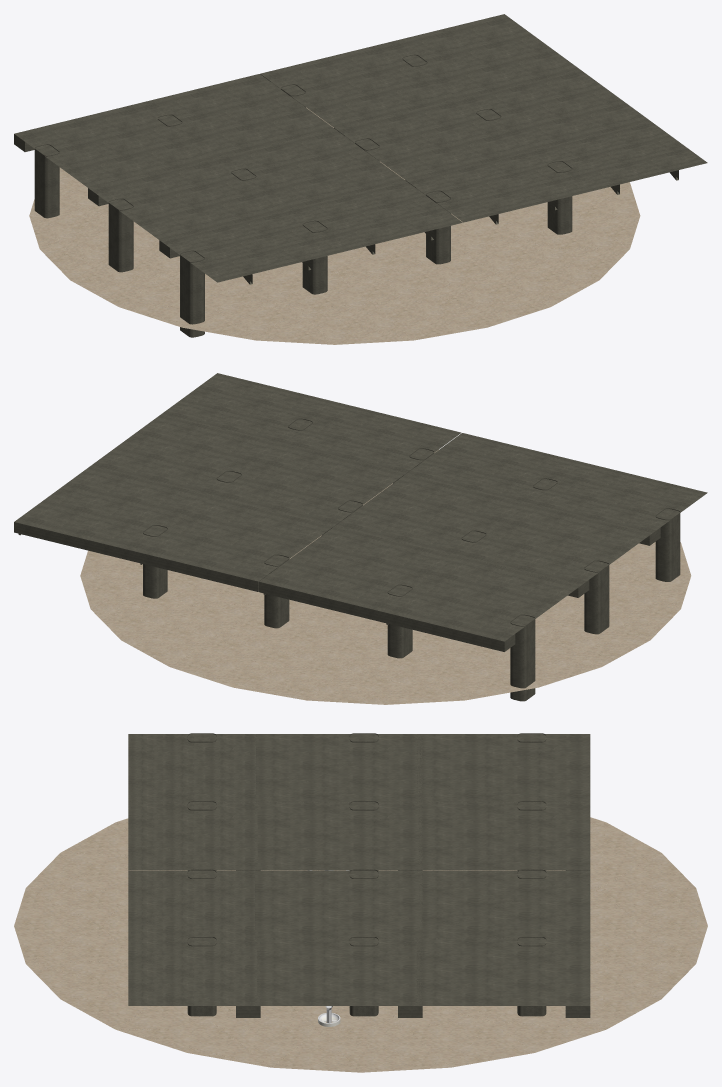
File: rami_placeholder.glb
3 views of the same model, one above another, from view 1: azimuth 30°, elevation 25°; view 2: azimuth 150°, elevation 25°; view 3: azimuth 270°, elevation 25° (orthographic). The views are drawn at different scales.
Visible parts, largest first — view 1: pDisc1, Pillar_Roof_10, Pillar_Roof_4, Pillar_Roof_1, Pillar_Roof_7, Pillar_Roof_6, Pillar_Roof_3, Pillar_Roof, Pillar_Roof_9, Pillar_Roof_2, Pillar_Roof_5, Pillar_Roof_8 (+7 smaller); view 2: pDisc1, Pillar_Roof_4, Pillar_Roof_10, Pillar_Roof_1, Pillar_Roof_7, Pillar_Roof_6, Pillar_Roof_3, Pillar_Roof, Pillar_Roof_9, Pillar_Roof_2, Pillar_Roof_11, Pillar_Roof_5 (+11 smaller); view 3: pDisc1, Pillar_Roof_10, Pillar_Roof_4, Pillar_Roof_1, Pillar_Roof_7, Pillar_Roof_6, Pillar_Roof_3, Pillar_Roof, Pillar_Roof_9, Pillar_Roof_2, Pillar_Roof_11, Pillar_Roof_5 (+1 smaller).
Boxes of the visible parts, x1,y1,x2,y2 form: pDisc1: (29,107,640,344); Pillar_Roof_10: (382,14,580,99); Pillar_Roof_4: (14,104,213,187); Pillar_Roof_1: (137,74,332,158); Pillar_Roof_7: (260,44,457,127); Pillar_Roof_6: (334,99,530,181); Pillar_Roof_3: (88,160,283,241); Pillar_Roof: (213,128,405,210); Pillar_Roof_9: (457,70,650,150); Pillar_Roof_2: (284,180,462,254); Pillar_Roof_5: (161,210,339,284); Pillar_Roof_8: (406,152,585,224); pDisc1: (80,449,691,704); Pillar_Roof_4: (382,555,580,641); Pillar_Roof_10: (14,466,212,551); Pillar_Roof_1: (259,526,456,611); Pillar_Roof_7: (137,497,333,581); Pillar_Roof_6: (212,443,405,526); Pillar_Roof_3: (456,504,651,586); Pillar_Roof: (335,474,527,556); Pillar_Roof_9: (91,414,282,497); Pillar_Roof_2: (405,433,584,504); Pillar_Roof_11: (161,373,339,443); Pillar_Roof_5: (529,463,707,533); pDisc1: (14,817,707,1072); Pillar_Roof_10: (416,938,590,1005); Pillar_Roof_4: (416,734,590,802); Pillar_Roof_1: (418,802,590,870); Pillar_Roof_7: (419,870,590,938); Pillar_Roof_6: (255,870,422,938); Pillar_Roof_3: (256,734,422,802); Pillar_Roof: (257,802,422,870); Pillar_Roof_9: (257,938,422,1005); Pillar_Roof_2: (128,802,257,870); Pillar_Roof_11: (128,938,260,1005); Pillar_Roof_5: (128,734,258,802).
Bounding box in the file's own units: 212 × 28.56 × 210.
Materials: 9 (2 with a texture image).
